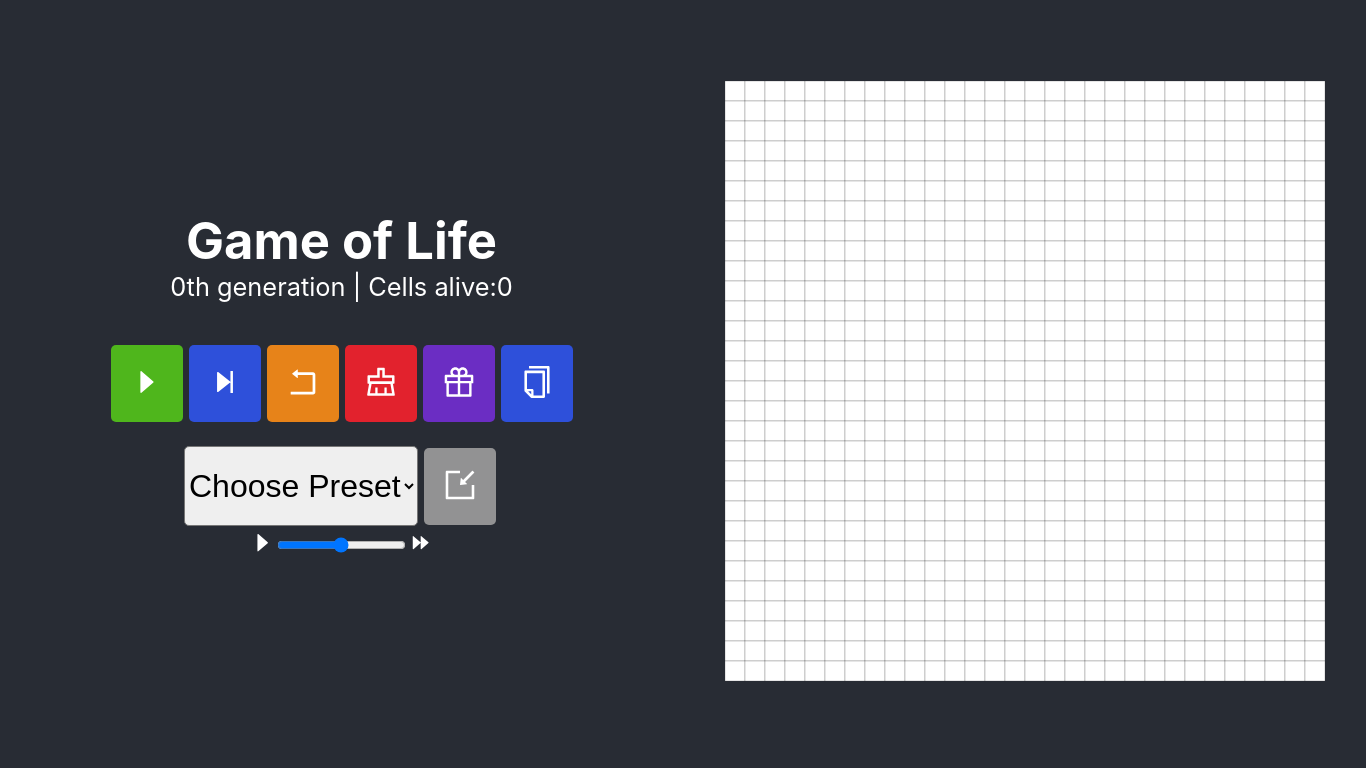
Test: App › should increase the generation counter
The image size is (1366, 768).
Expected: the text titled "gen_counter" reads "0th generation", [170, 270, 346, 302]
Click the button with class "next" at x=224, y=383, box [188, 344, 260, 422]
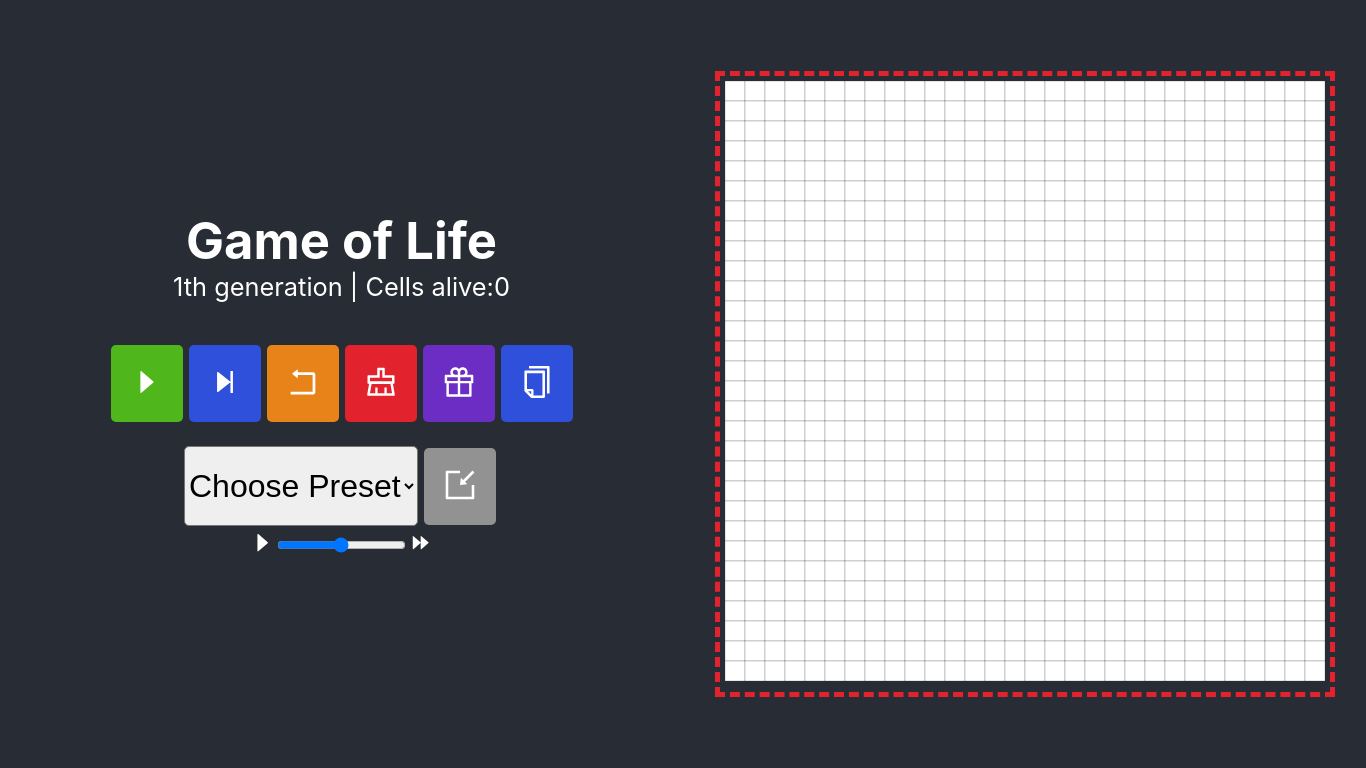
Expected: the text titled "gen_counter" reads "1th generation", [173, 270, 343, 302]
